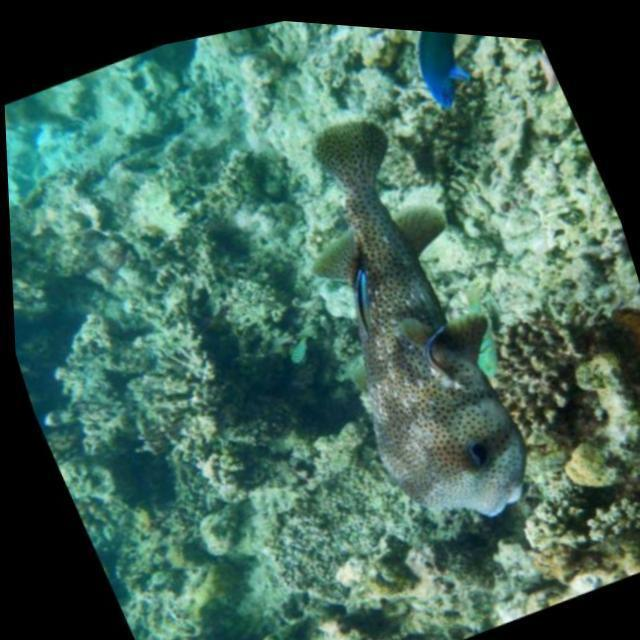Dead Coral: (2, 73, 327, 640), (506, 18, 640, 617)
